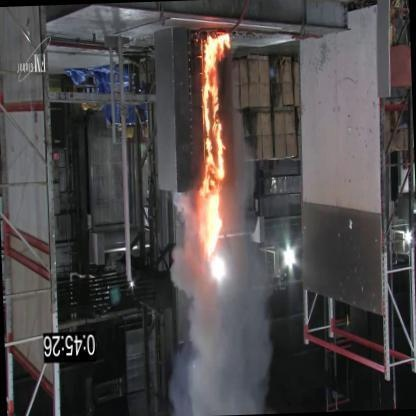fire: (198, 51, 235, 219)
smoke: (173, 222, 266, 415)
